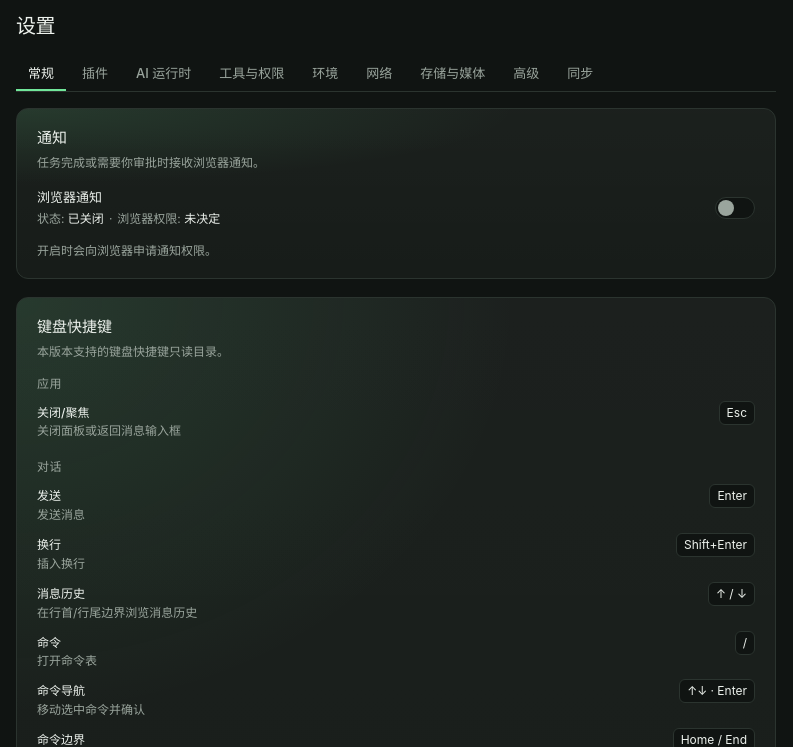
settings sync tab › offers only import/export and never saves the current settings draft
Click the tab "同步": (580, 75) [555, 59, 605, 91]
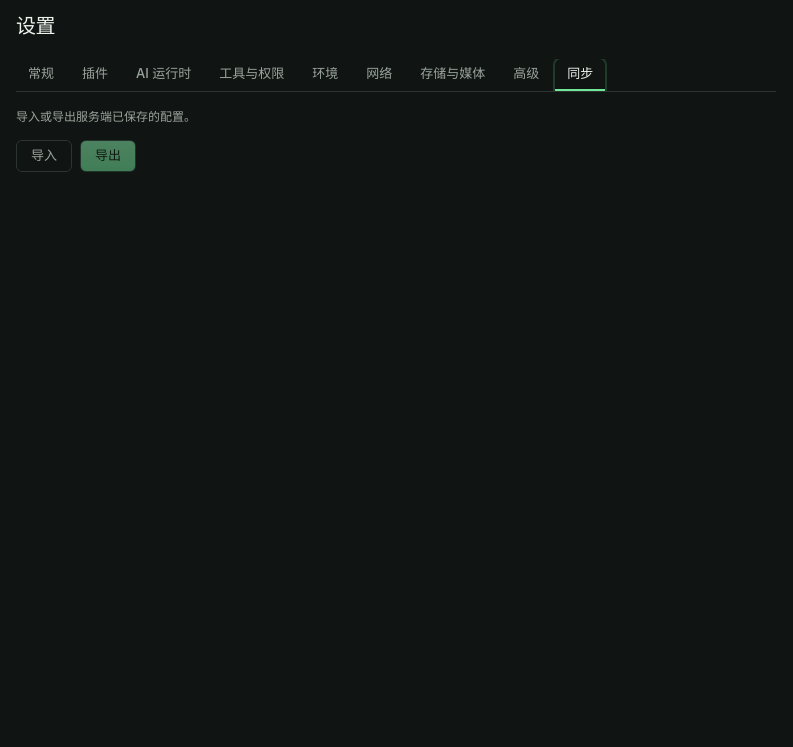
Result: the button "导入" is shown at [16, 140, 72, 172]
Result: the button "导出" is shown at [80, 140, 136, 172]
